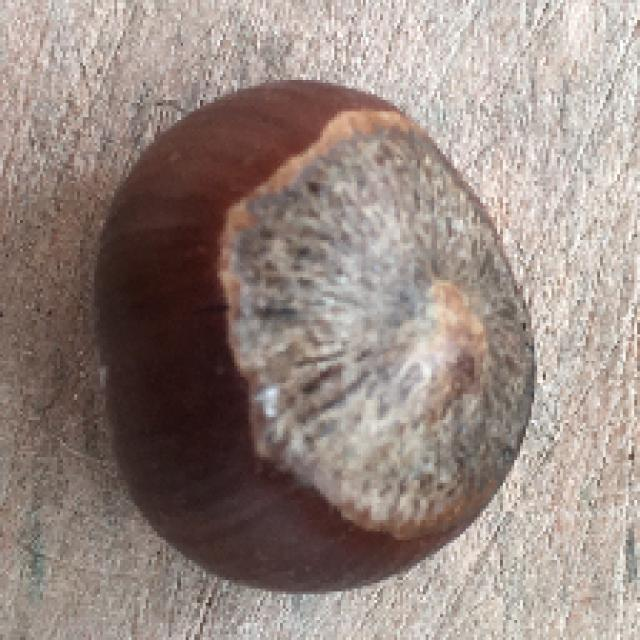damagedHazelnut: (88, 80, 542, 587)
